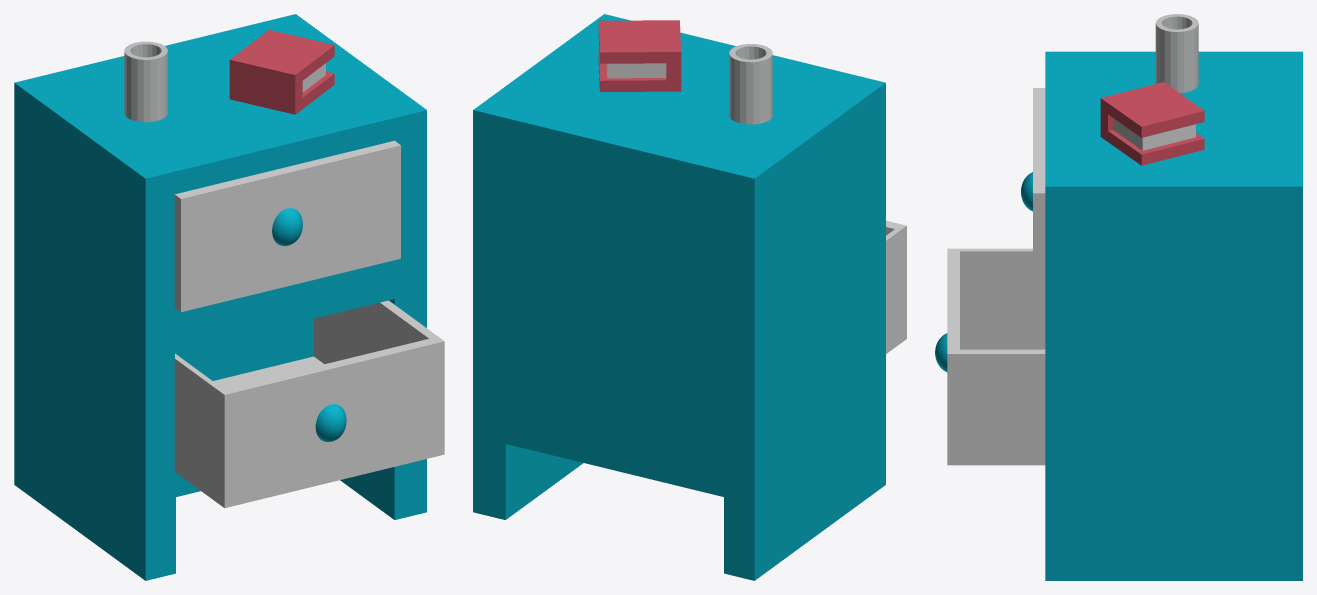
3 views of the same model, side by side, from view 1: azimuth 30°, elevation 25°; view 2: azimuth 150°, elevation 25°; view 3: azimuth 270°, elevation 25° (orthographic).
Visible parts, largest first — view 1: Mesh_Mesh_head_geo.001_lambert2SG.001; view 2: Mesh_Mesh_head_geo.001_lambert2SG.001; view 3: Mesh_Mesh_head_geo.001_lambert2SG.001.
Part boxes in pixels (x1,y1,x2,y2): Mesh_Mesh_head_geo.001_lambert2SG.001: (14,14,444,580); Mesh_Mesh_head_geo.001_lambert2SG.001: (473,14,906,580); Mesh_Mesh_head_geo.001_lambert2SG.001: (935,14,1302,580).
Size of the model in its own units: 52 by 82 by 60.
